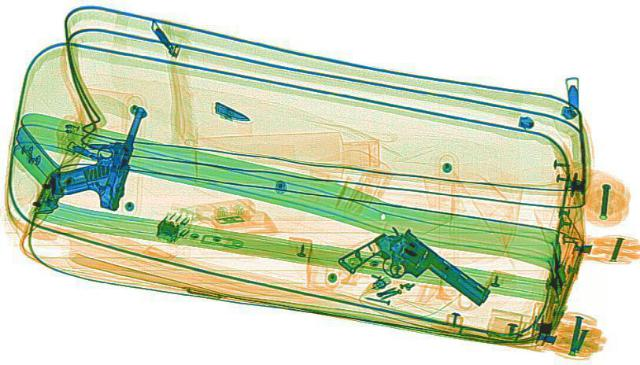Gun: (322, 222, 504, 325), (44, 98, 150, 209)
